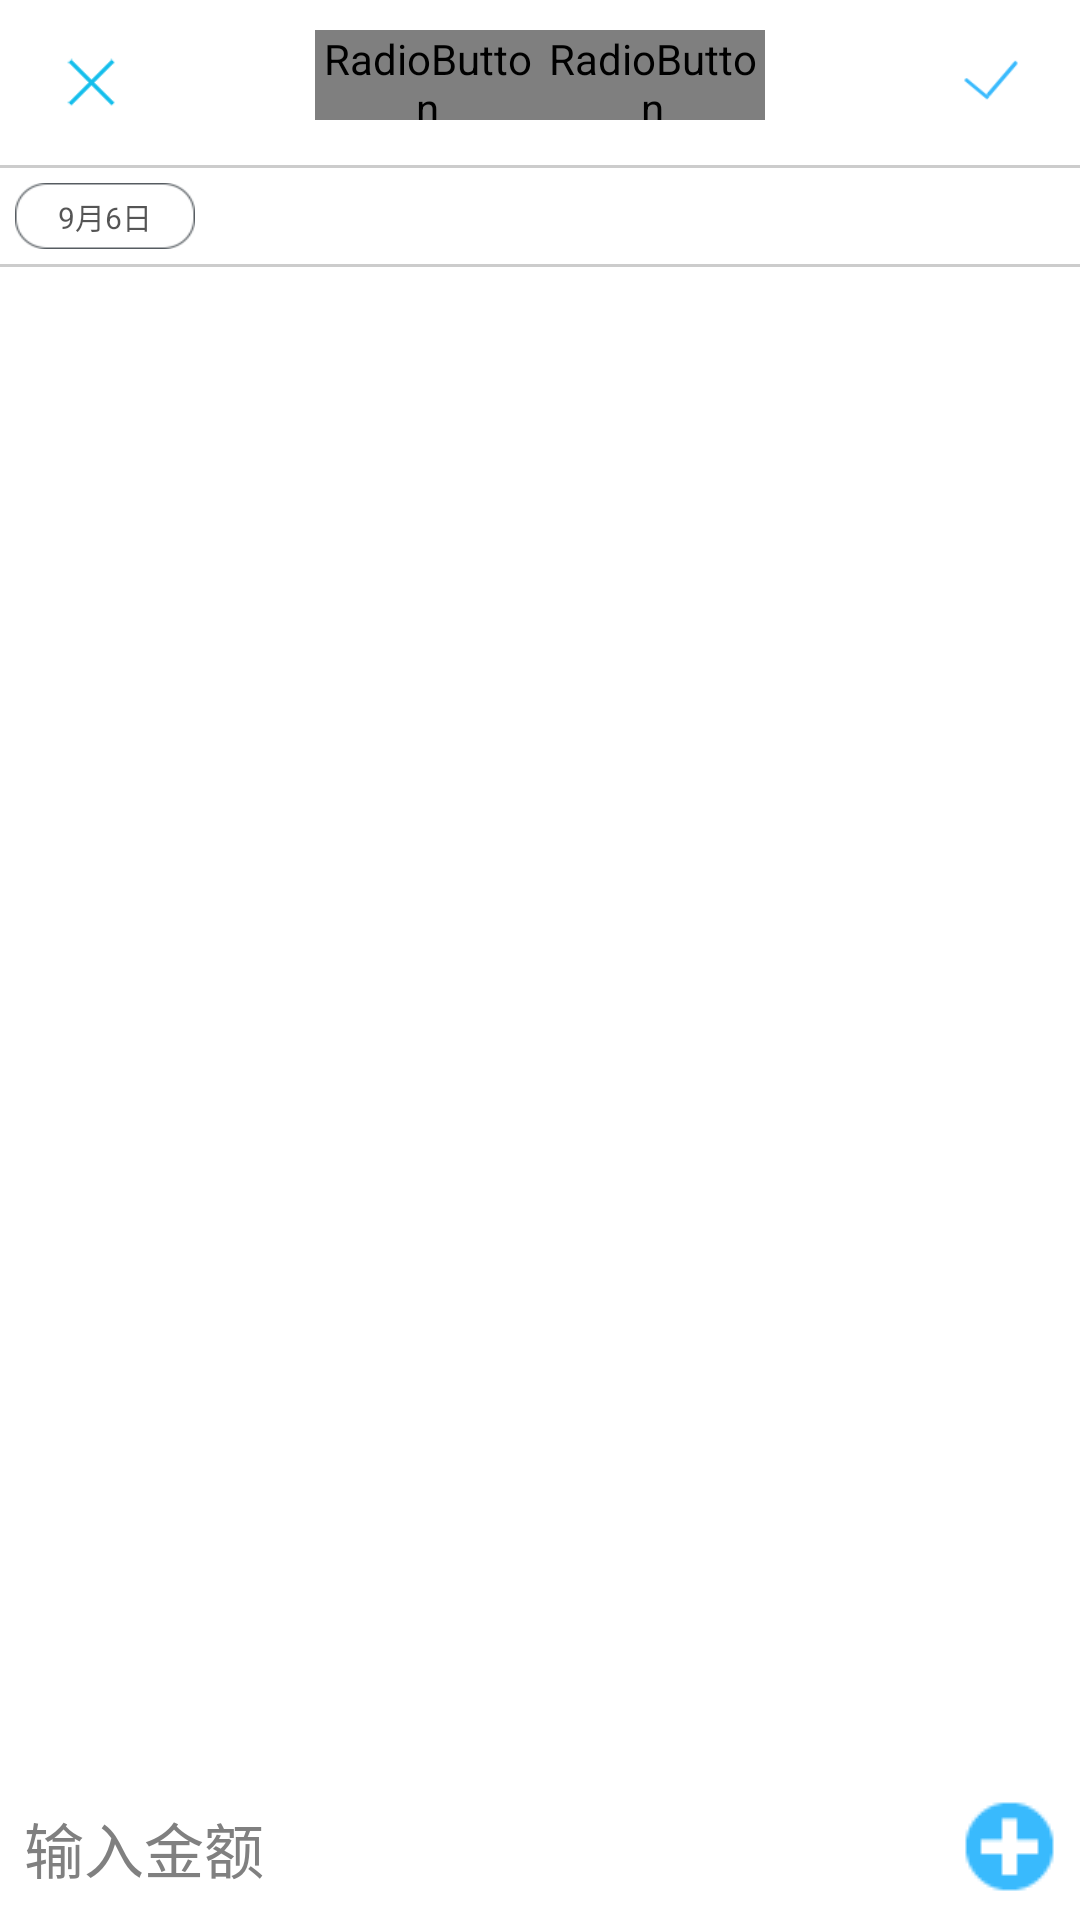

Screen size 1080×1920. Icon name, then its box in pixels as (x1, y1, x2, y2):
add: (965, 1802, 1054, 1891)
back: (67, 58, 115, 106)
confirm: (964, 60, 1018, 100)
